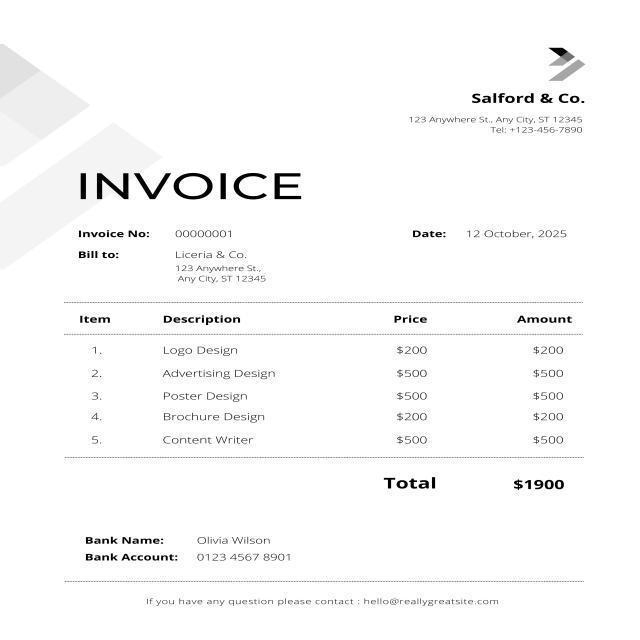ROI: (62, 295, 605, 452), (397, 83, 598, 150), (62, 165, 323, 207), (140, 592, 504, 617), (375, 466, 596, 506), (77, 532, 297, 569), (403, 216, 586, 250), (67, 217, 266, 241)
